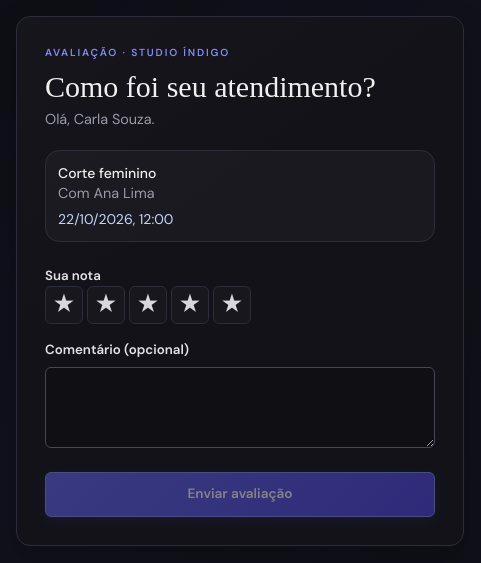
it: RatingPage › só habilita o envio depois de escolher uma nota
This screenshot has width=481, height=563.
Expected: the text "Corte feminino" is shown, [58,164,156,182]
Expected: the button "Enviar avaliação" is disabled, [45,472,435,517]
Click the radio button named "5 de 5" at (232, 305), box [213,286,251,324]
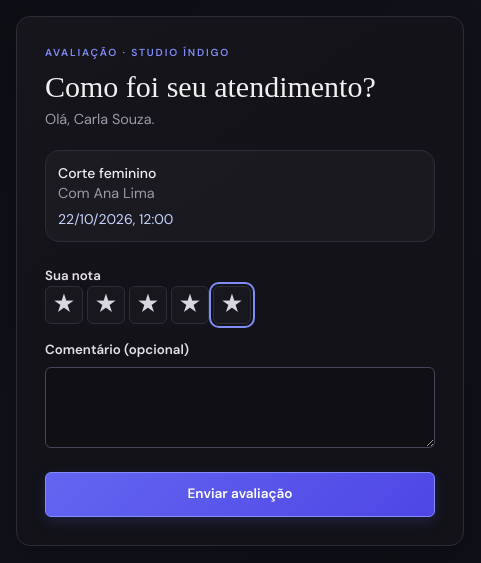
Expected: the button "Enviar avaliação" is enabled, [45,472,435,517]
